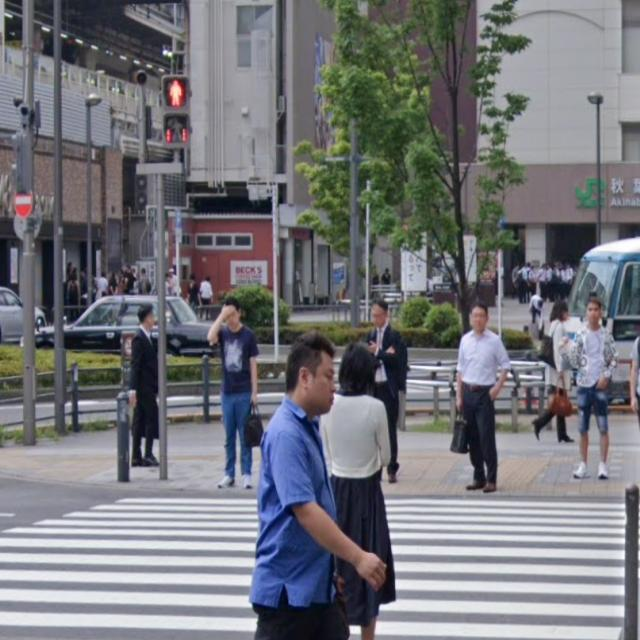traffic-light: (160, 72, 187, 149)
